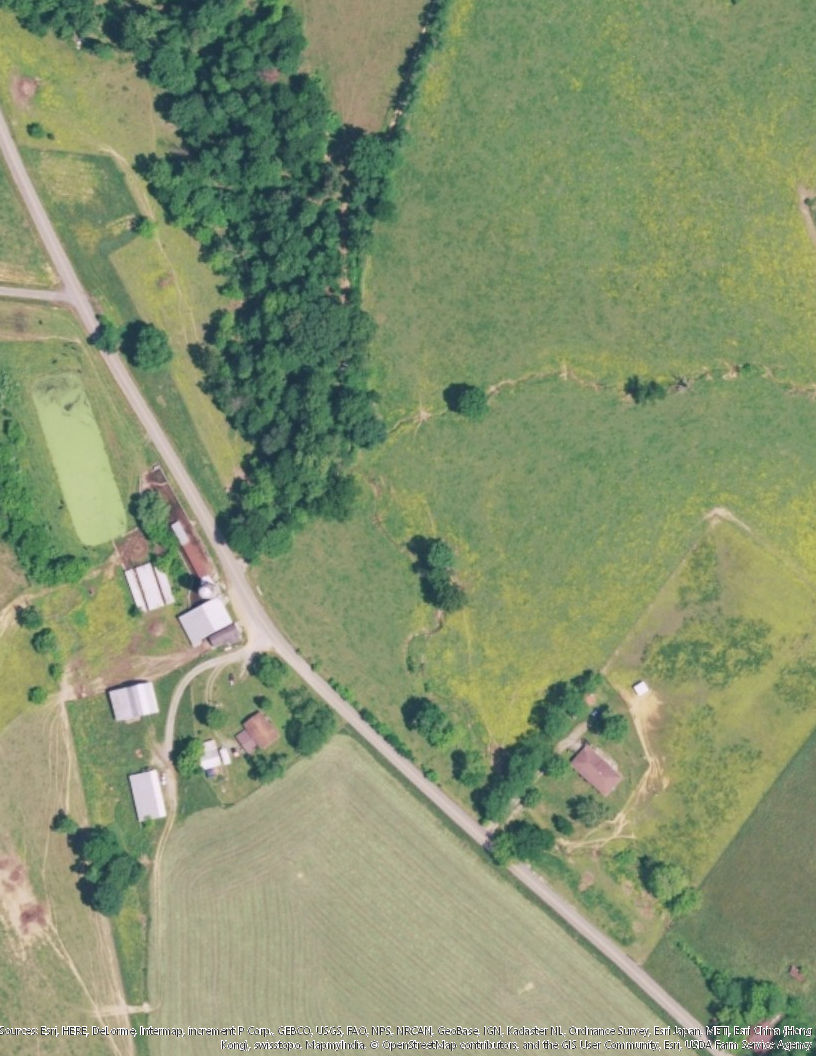cafo: (174, 597, 254, 652), (108, 674, 166, 724), (128, 760, 170, 828)
